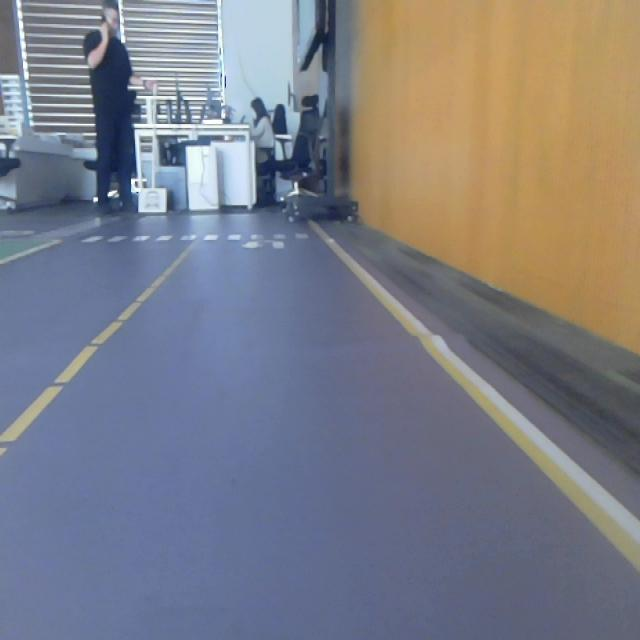left_lane: (0, 240, 198, 462)
right_lane: (317, 231, 639, 572)
